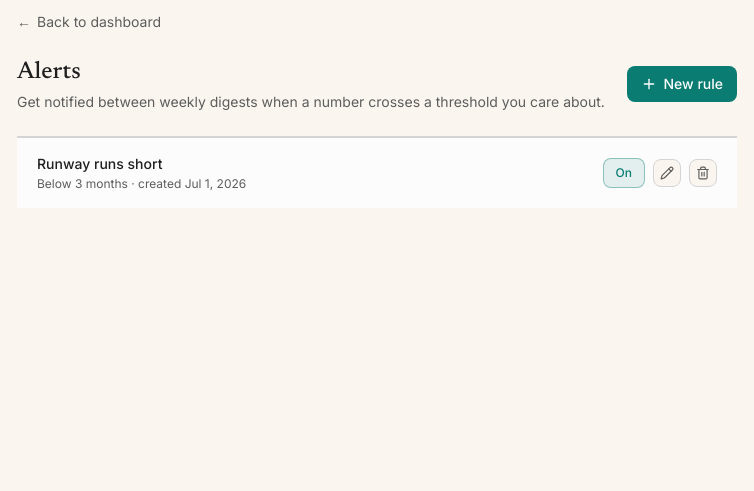
Test case: AlertRules, delete flow › removes the rule from the list after a successful delete
Click the button named "delete alert rule". click: point(703, 173)
box: x1=689 y1=159 x2=717 y2=187
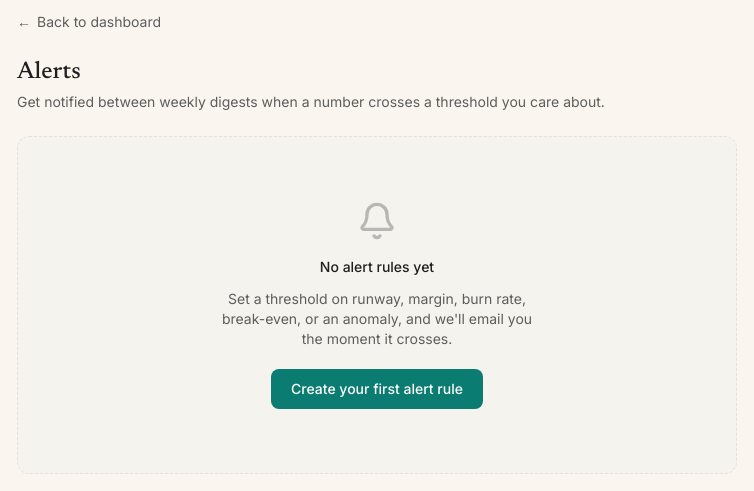
Expected: the text "Runway runs short" is gone
